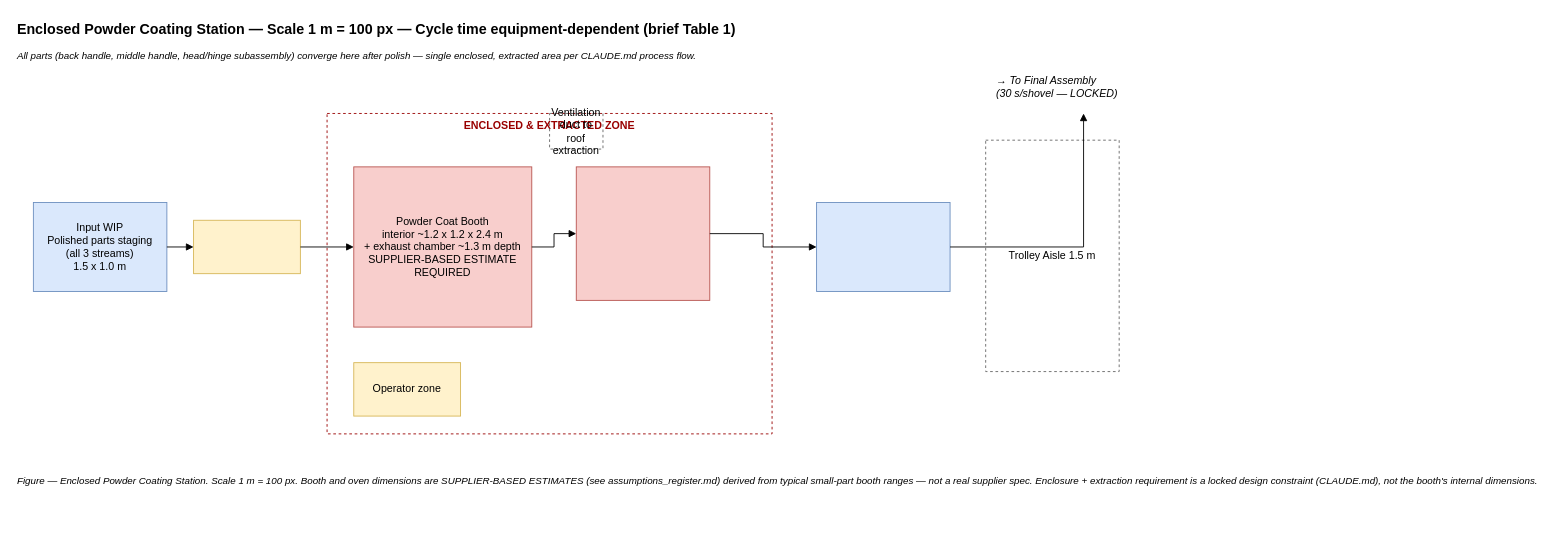
The diagram is 1553 pixels wide and 538 high, and some of its shapes have lost their labels. The shapes that lost their labels are listed below. From the top down, each one's centre as x and y in pixels, then its label:
point 246,246: Hanging jig / loading line
point 642,233: Cure Oven ~1.5 x 1.5 m SUPPLIER-BASED ESTIMATE REQUIRED
point 883,246: Output WIP Coated parts staging 1.5 x 1.0 m
